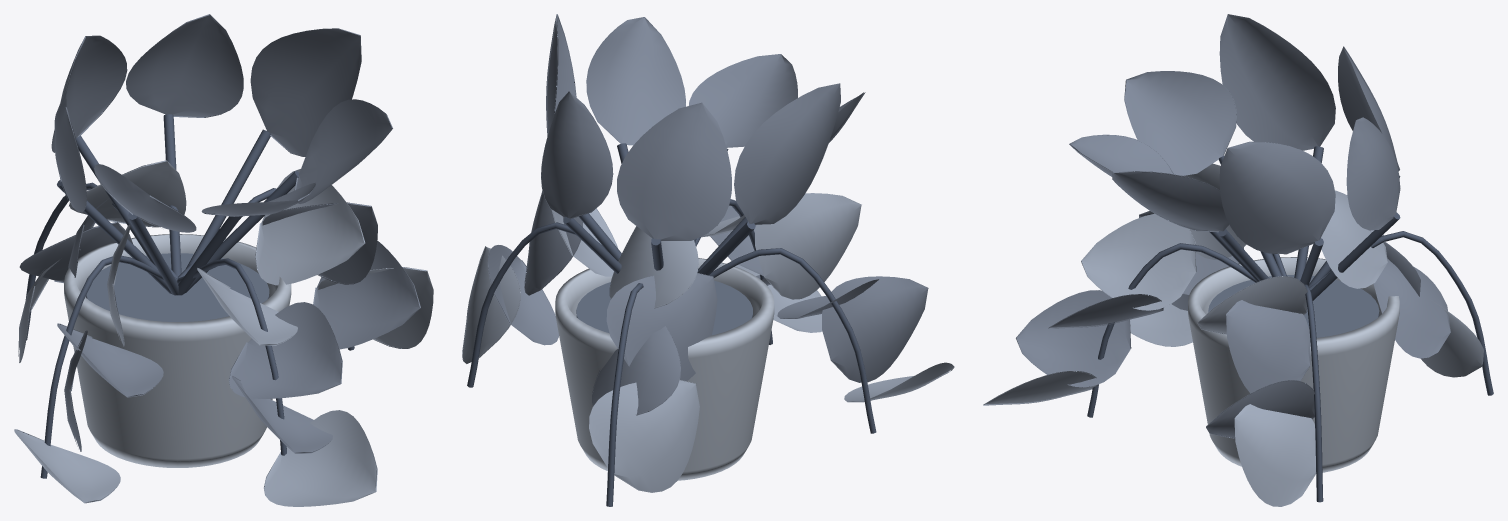
3 renders of one model, left to right at view 1: azimuth 30°, elevation 25°; view 2: azimuth 150°, elevation 25°; view 3: azimuth 270°, elevation 25°, orthographic. The views are drawn at different scales.
Visible parts, largest first — view 1: soft, light, body, dark, glass; view 2: soft, light, body, dark, glass; view 3: soft, light, body, dark, glass.
Part boxes in pixels (x1,y1,x2,y2): soft: [19, 14, 420, 453]; light: [14, 160, 433, 506]; body: [64, 234, 291, 467]; dark: [25, 114, 354, 478]; glass: [86, 253, 269, 321]; soft: [487, 14, 928, 415]; light: [462, 193, 954, 492]; body: [555, 258, 774, 480]; dark: [467, 143, 876, 506]; glass: [576, 280, 752, 335]; soft: [1016, 14, 1450, 438]; light: [983, 163, 1483, 506]; body: [1188, 257, 1399, 472]; dark: [1087, 146, 1493, 502]; glass: [1208, 275, 1379, 337].
Size of the model in its own units: 0.6531 by 0.55 by 0.6952.
